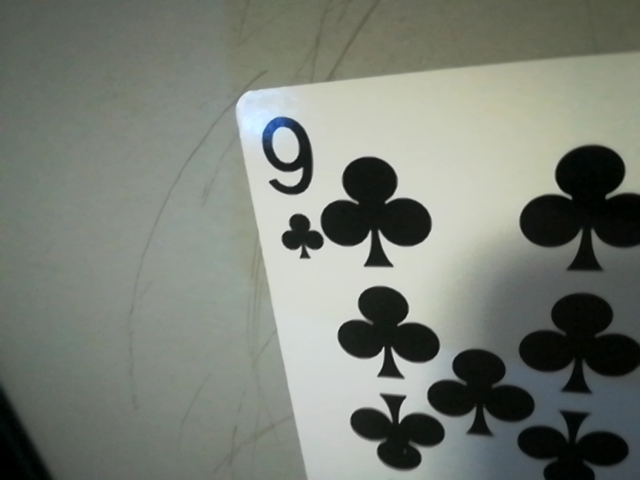mh 9: (253, 104, 326, 267)
